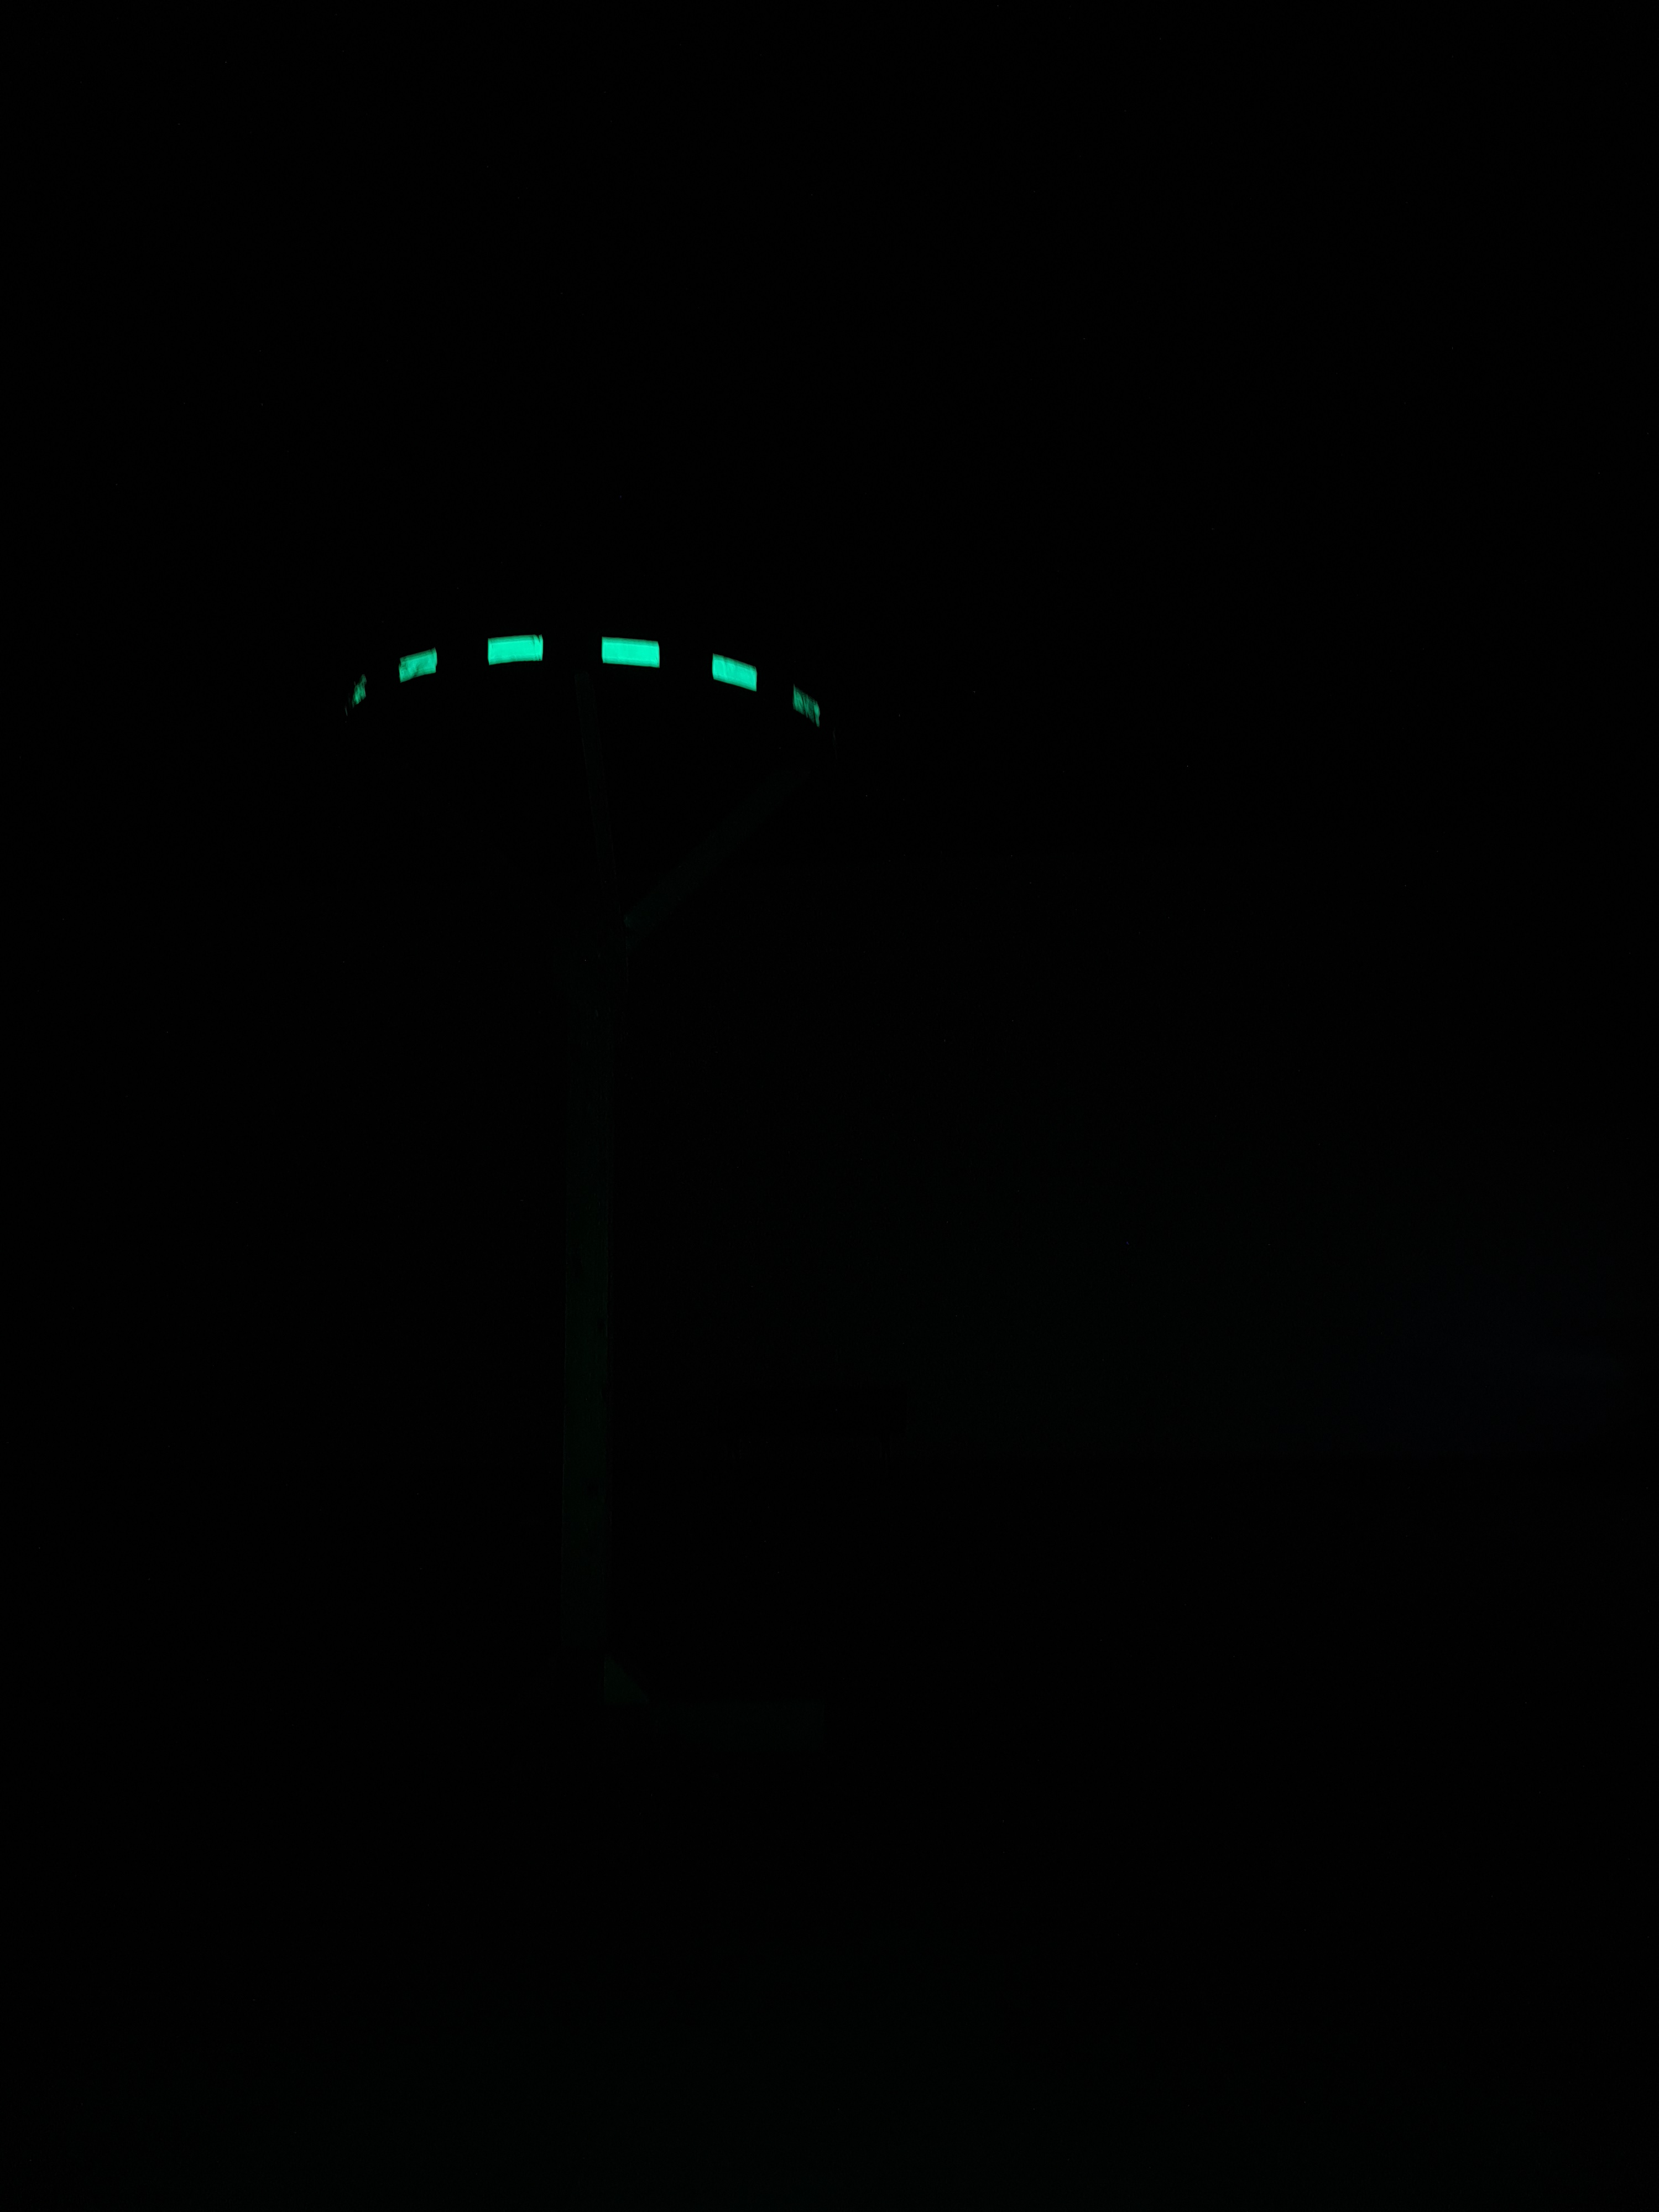hoop: (331, 627, 833, 744)
